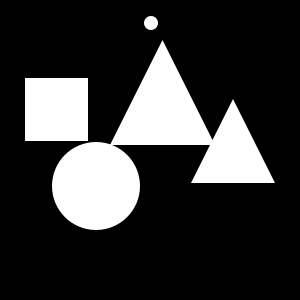circle: (25, 78, 88, 141)
rectangle: (52, 142, 140, 230), (144, 16, 158, 30)
triangle: (110, 40, 215, 145), (191, 99, 275, 183)
